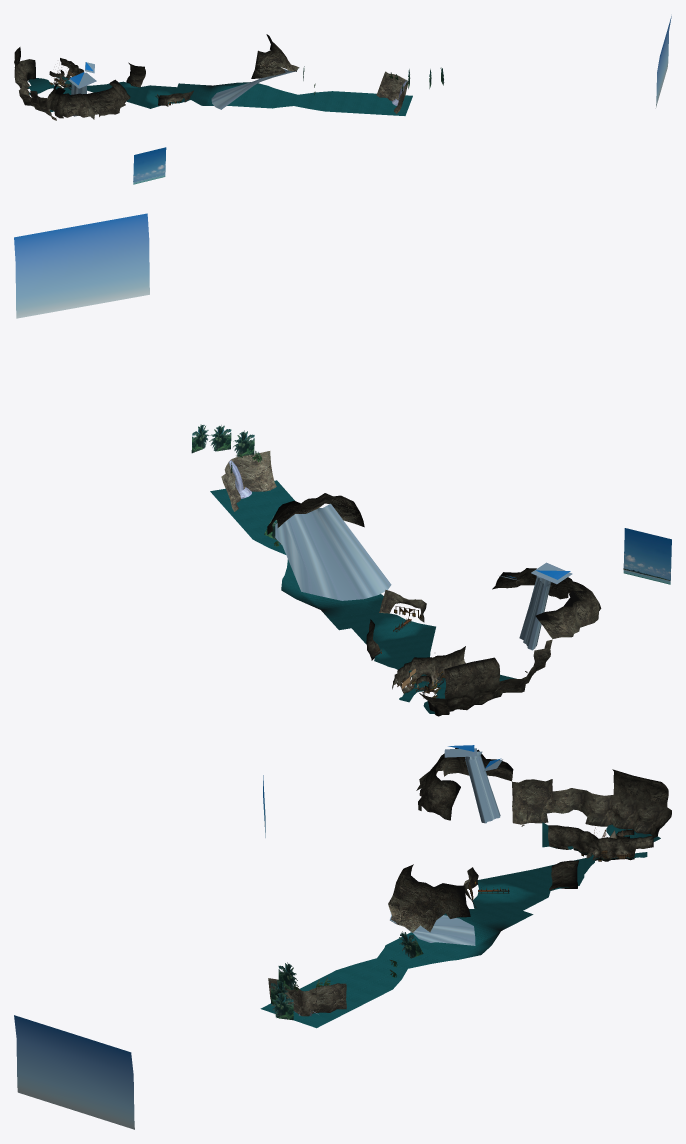
The model's file is stage_m027.glb.
3 renders of one model, top to bottom at view 1: azimuth 30°, elevation 25°; view 2: azimuth 150°, elevation 25°; view 3: azimuth 270°, elevation 25°, orthographic. The views are drawn at different scales.
Parts seen in each view (by area): view 1: g1p75, g0p57, g0p81, g0p42, g0p62, g1p22, g1p74, g1p10, g1p00, g0p74; view 2: g1p00, g1p75, g1p74, g0p57, g0p42, g1p22, g0p59, g0p81, g0p82, g0p62, g1p13, g0p60; view 3: g1p75, g1p00, g0p62, g0p81, g0p57, g1p22, g0p60, g0p82, g0p59, g1p74, g1p13, g1p10 (+2 smaller).
Part boxes in pixels (left/top/right/bottom): g1p75: left=106, top=81, right=412, bottom=115; g0p57: left=45, top=79, right=130, bottom=119; g0p81: left=251, top=34, right=298, bottom=78; g0p42: left=133, top=147, right=166, bottom=182; g0p62: left=16, top=59, right=56, bottom=120; g1p22: left=376, top=71, right=408, bottom=113; g1p74: left=211, top=67, right=299, bottom=109; g1p10: left=27, top=76, right=109, bottom=112; g1p00: left=655, top=16, right=671, bottom=108; g0p74: left=158, top=90, right=193, bottom=106; g1p00: left=14, top=213, right=149, bottom=318; g1p75: left=210, top=480, right=435, bottom=666; g1p74: left=275, top=503, right=391, bottom=600; g0p57: left=492, top=568, right=601, bottom=638; g0p42: left=623, top=528, right=671, bottom=580; g1p22: left=221, top=451, right=276, bottom=511; g0p59: left=444, top=657, right=499, bottom=698; g0p81: left=267, top=493, right=364, bottom=534; g0p82: left=191, top=424, right=277, bottom=539; g0p62: left=419, top=639, right=552, bottom=716; g1p13: left=519, top=576, right=551, bottom=650; g0p60: left=443, top=687, right=498, bottom=714; g1p75: left=260, top=865, right=583, bottom=1028; g1p00: left=14, top=1015, right=134, bottom=1129; g0p62: left=512, top=779, right=671, bottom=837; g0p81: left=388, top=864, right=470, bottom=932; g0p57: left=416, top=748, right=513, bottom=820; g1p22: left=268, top=978, right=346, bottom=1016; g0p60: left=607, top=795, right=666, bottom=834; g0p82: left=271, top=931, right=423, bottom=1020; g0p59: left=612, top=769, right=668, bottom=806; g1p74: left=390, top=911, right=475, bottom=945; g1p13: left=465, top=751, right=500, bottom=823; g1p10: left=542, top=822, right=660, bottom=877.
Size of the model in its own units: 1446 by 230 by 1098.
Materials: 62 (62 with a texture image).
